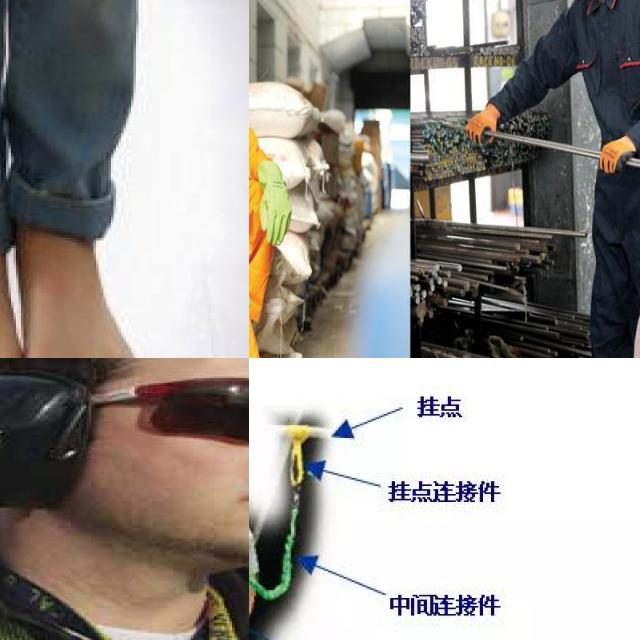Barefoots: (19, 208, 146, 358)
Ear-protection: (0, 371, 96, 511)
hand_glove: (258, 161, 292, 245), (599, 135, 636, 174), (465, 102, 500, 142)
person: (0, 358, 249, 640)
